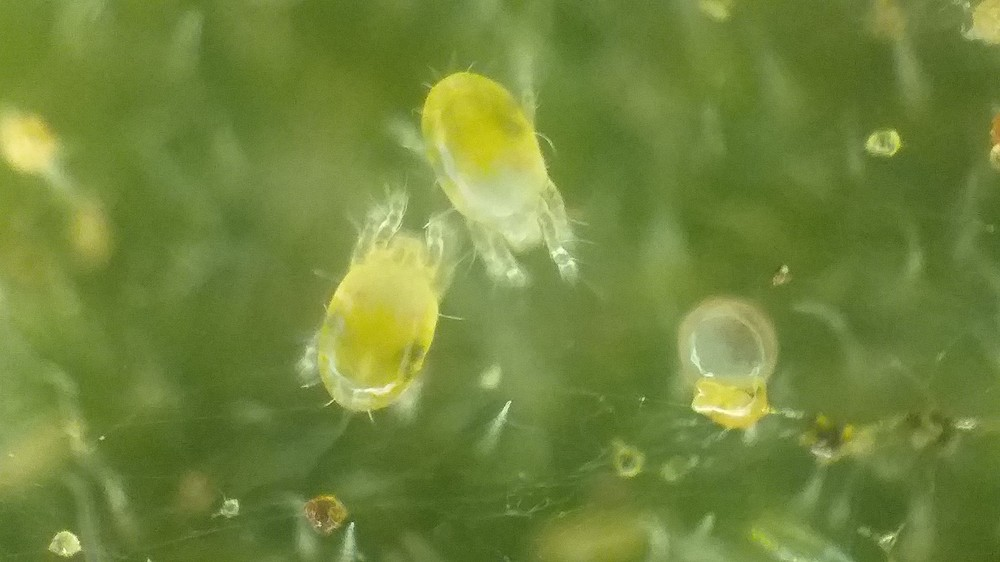Aracnido Rojo: (407, 60, 611, 290), (291, 199, 463, 415)
